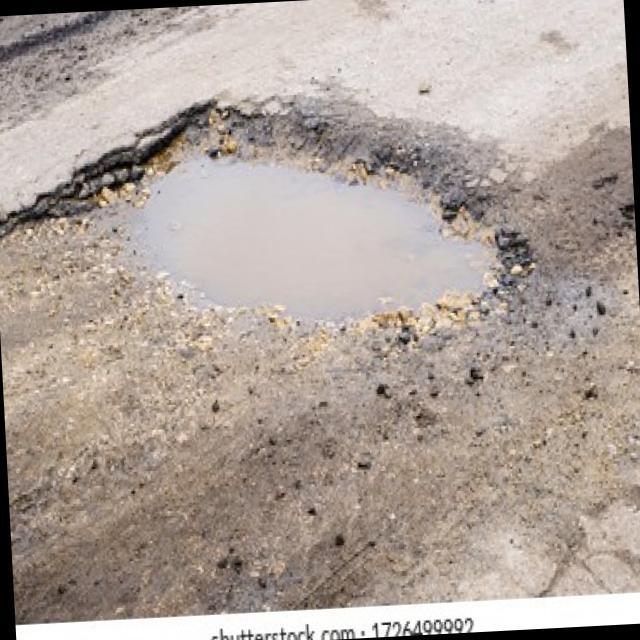Pothole: (94, 81, 514, 342)
